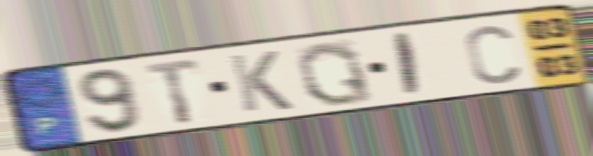9: (75, 66, 143, 134)
C: (461, 23, 522, 87)
I: (393, 29, 423, 100)
K: (226, 49, 297, 115)
Q: (294, 39, 378, 108)
T: (141, 56, 204, 127)
